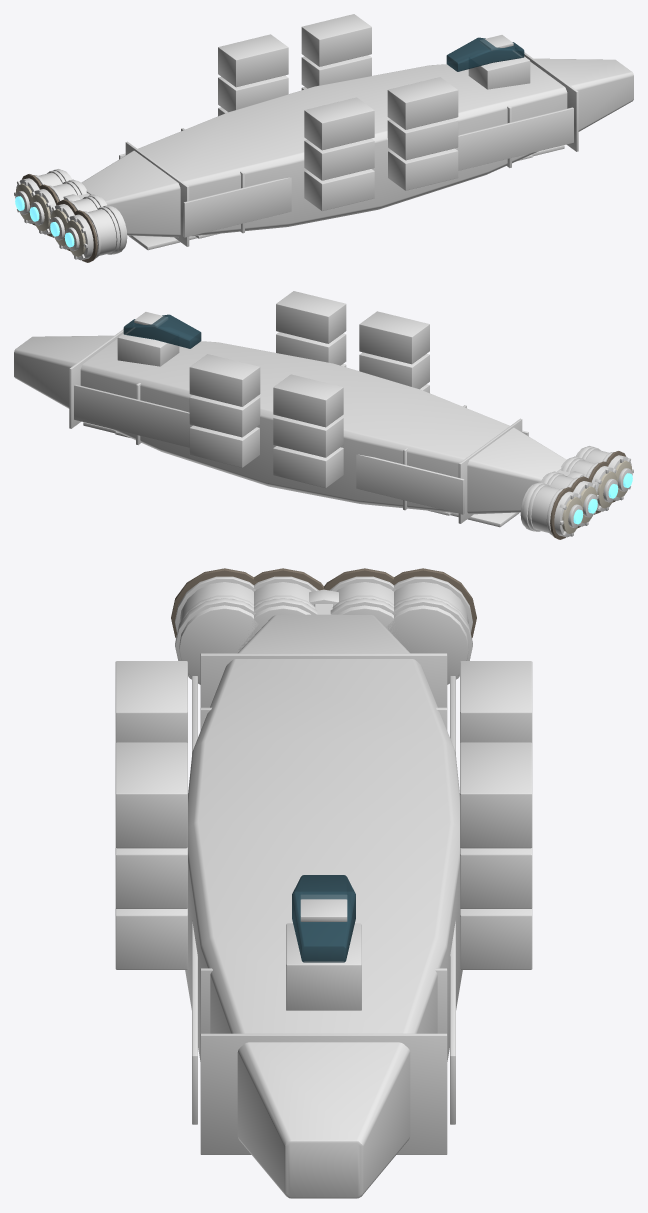
File: atlas_production_v1_lod1.glb
3 renders of one model, top to bottom at view 1: azimuth 30°, elevation 25°; view 2: azimuth 150°, elevation 25°; view 3: azimuth 270°, elevation 25°, orthographic. The views are drawn at different scales.
Visible parts, largest first — view 1: LOD1_Hull, LOD1_Armor, LOD1_Mechanical, LOD1_Canopy, LOD1_Ceramic, LOD1_Radiator, LOD1_Thruster; view 2: LOD1_Hull, LOD1_Armor, LOD1_Mechanical, LOD1_Canopy, LOD1_Ceramic, LOD1_Radiator, LOD1_Thruster; view 3: LOD1_Hull, LOD1_Armor, LOD1_Mechanical, LOD1_Canopy, LOD1_Radiator.
Part boxes in pixels (<box>): LOD1_Hull: <box>81,52,633,246</box>; LOD1_Armor: <box>33,14,530,258</box>; LOD1_Mechanical: <box>14,145,564,260</box>; LOD1_Canopy: <box>446,37,524,71</box>; LOD1_Ceramic: <box>15,183,85,256</box>; LOD1_Radiator: <box>21,174,97,262</box>; LOD1_Thruster: <box>15,196,74,247</box>; LOD1_Hull: <box>14,329,566,523</box>; LOD1_Armor: <box>117,291,614,535</box>; LOD1_Mechanical: <box>83,422,633,537</box>; LOD1_Canopy: <box>123,314,201,348</box>; LOD1_Ceramic: <box>562,460,632,533</box>; LOD1_Radiator: <box>550,451,626,539</box>; LOD1_Thruster: <box>573,473,632,524</box>; LOD1_Hull: <box>185,614,462,1198</box>; LOD1_Armor: <box>115,576,532,1010</box>; LOD1_Mechanical: <box>179,568,468,683</box>; LOD1_Canopy: <box>292,875,355,962</box>; LOD1_Radiator: <box>171,568,476,637</box>.
Size of what is drawn, in the model's own units: 22.98 by 4.77 by 7.14.
